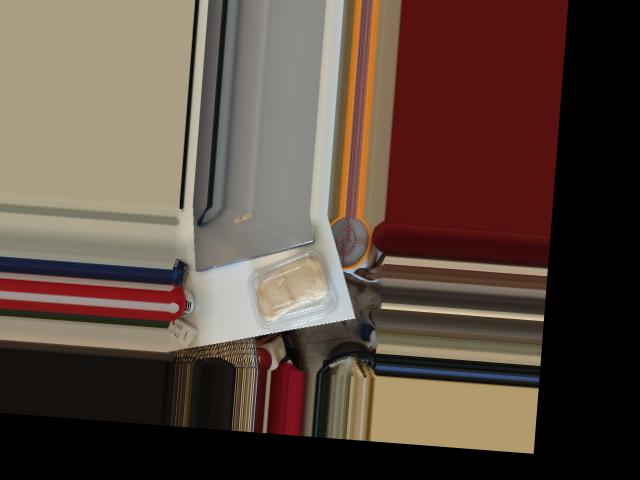cheese: (241, 244, 348, 335)
